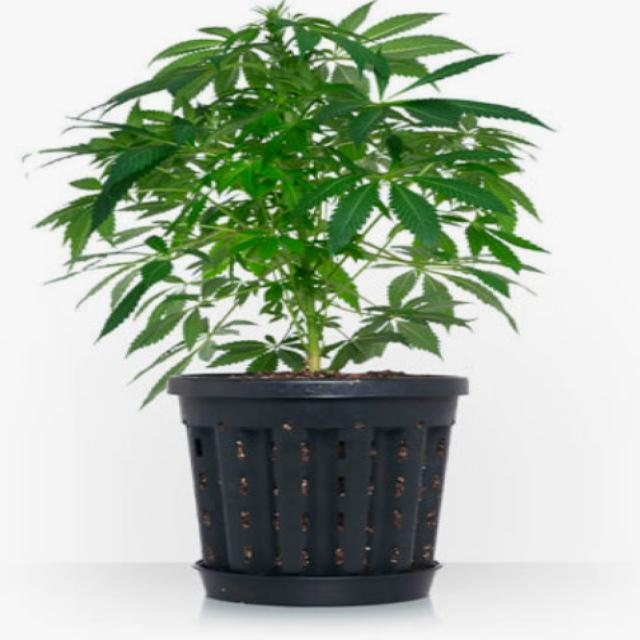Plant Pot: (147, 367, 493, 611)
